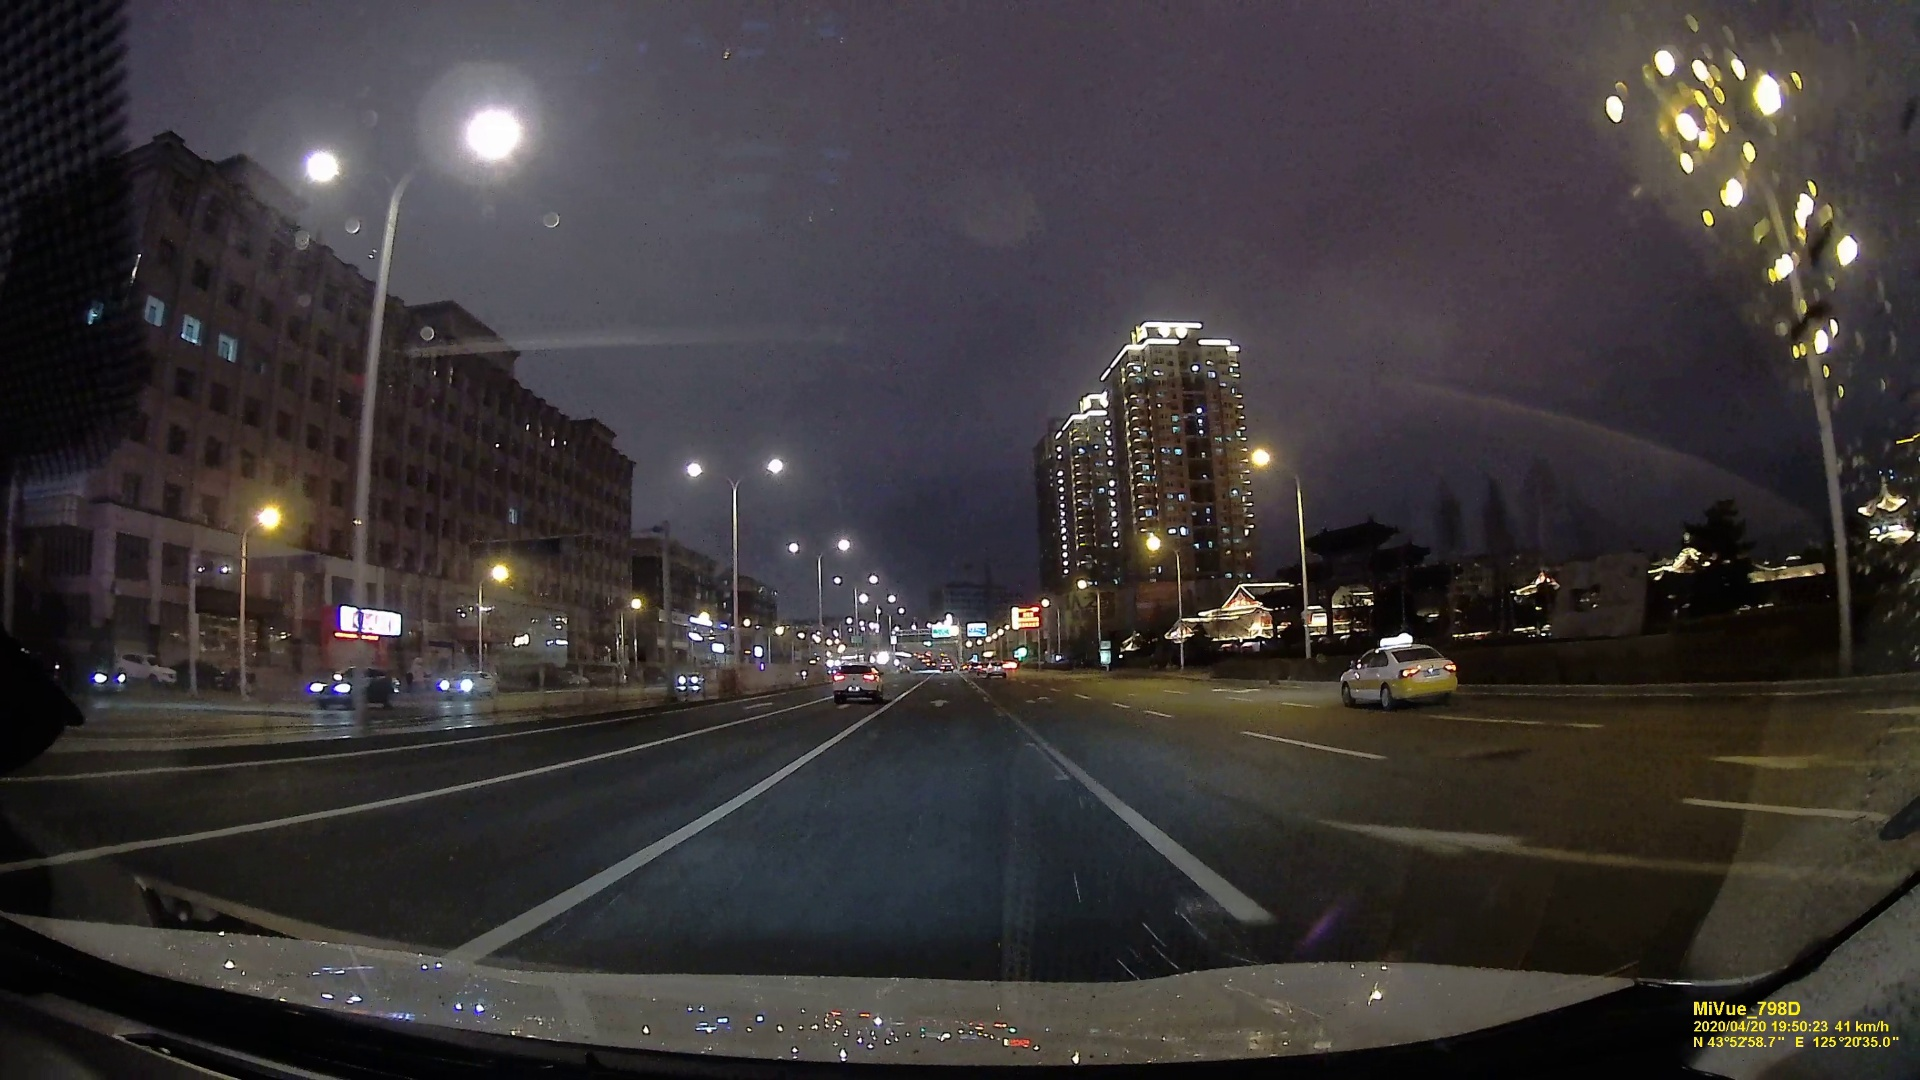traffic_sign: (967, 622, 986, 636), (932, 622, 949, 636)
vehicle: (1342, 641, 1462, 709), (306, 671, 401, 707), (433, 667, 497, 702), (831, 663, 881, 702), (985, 661, 1007, 676)
